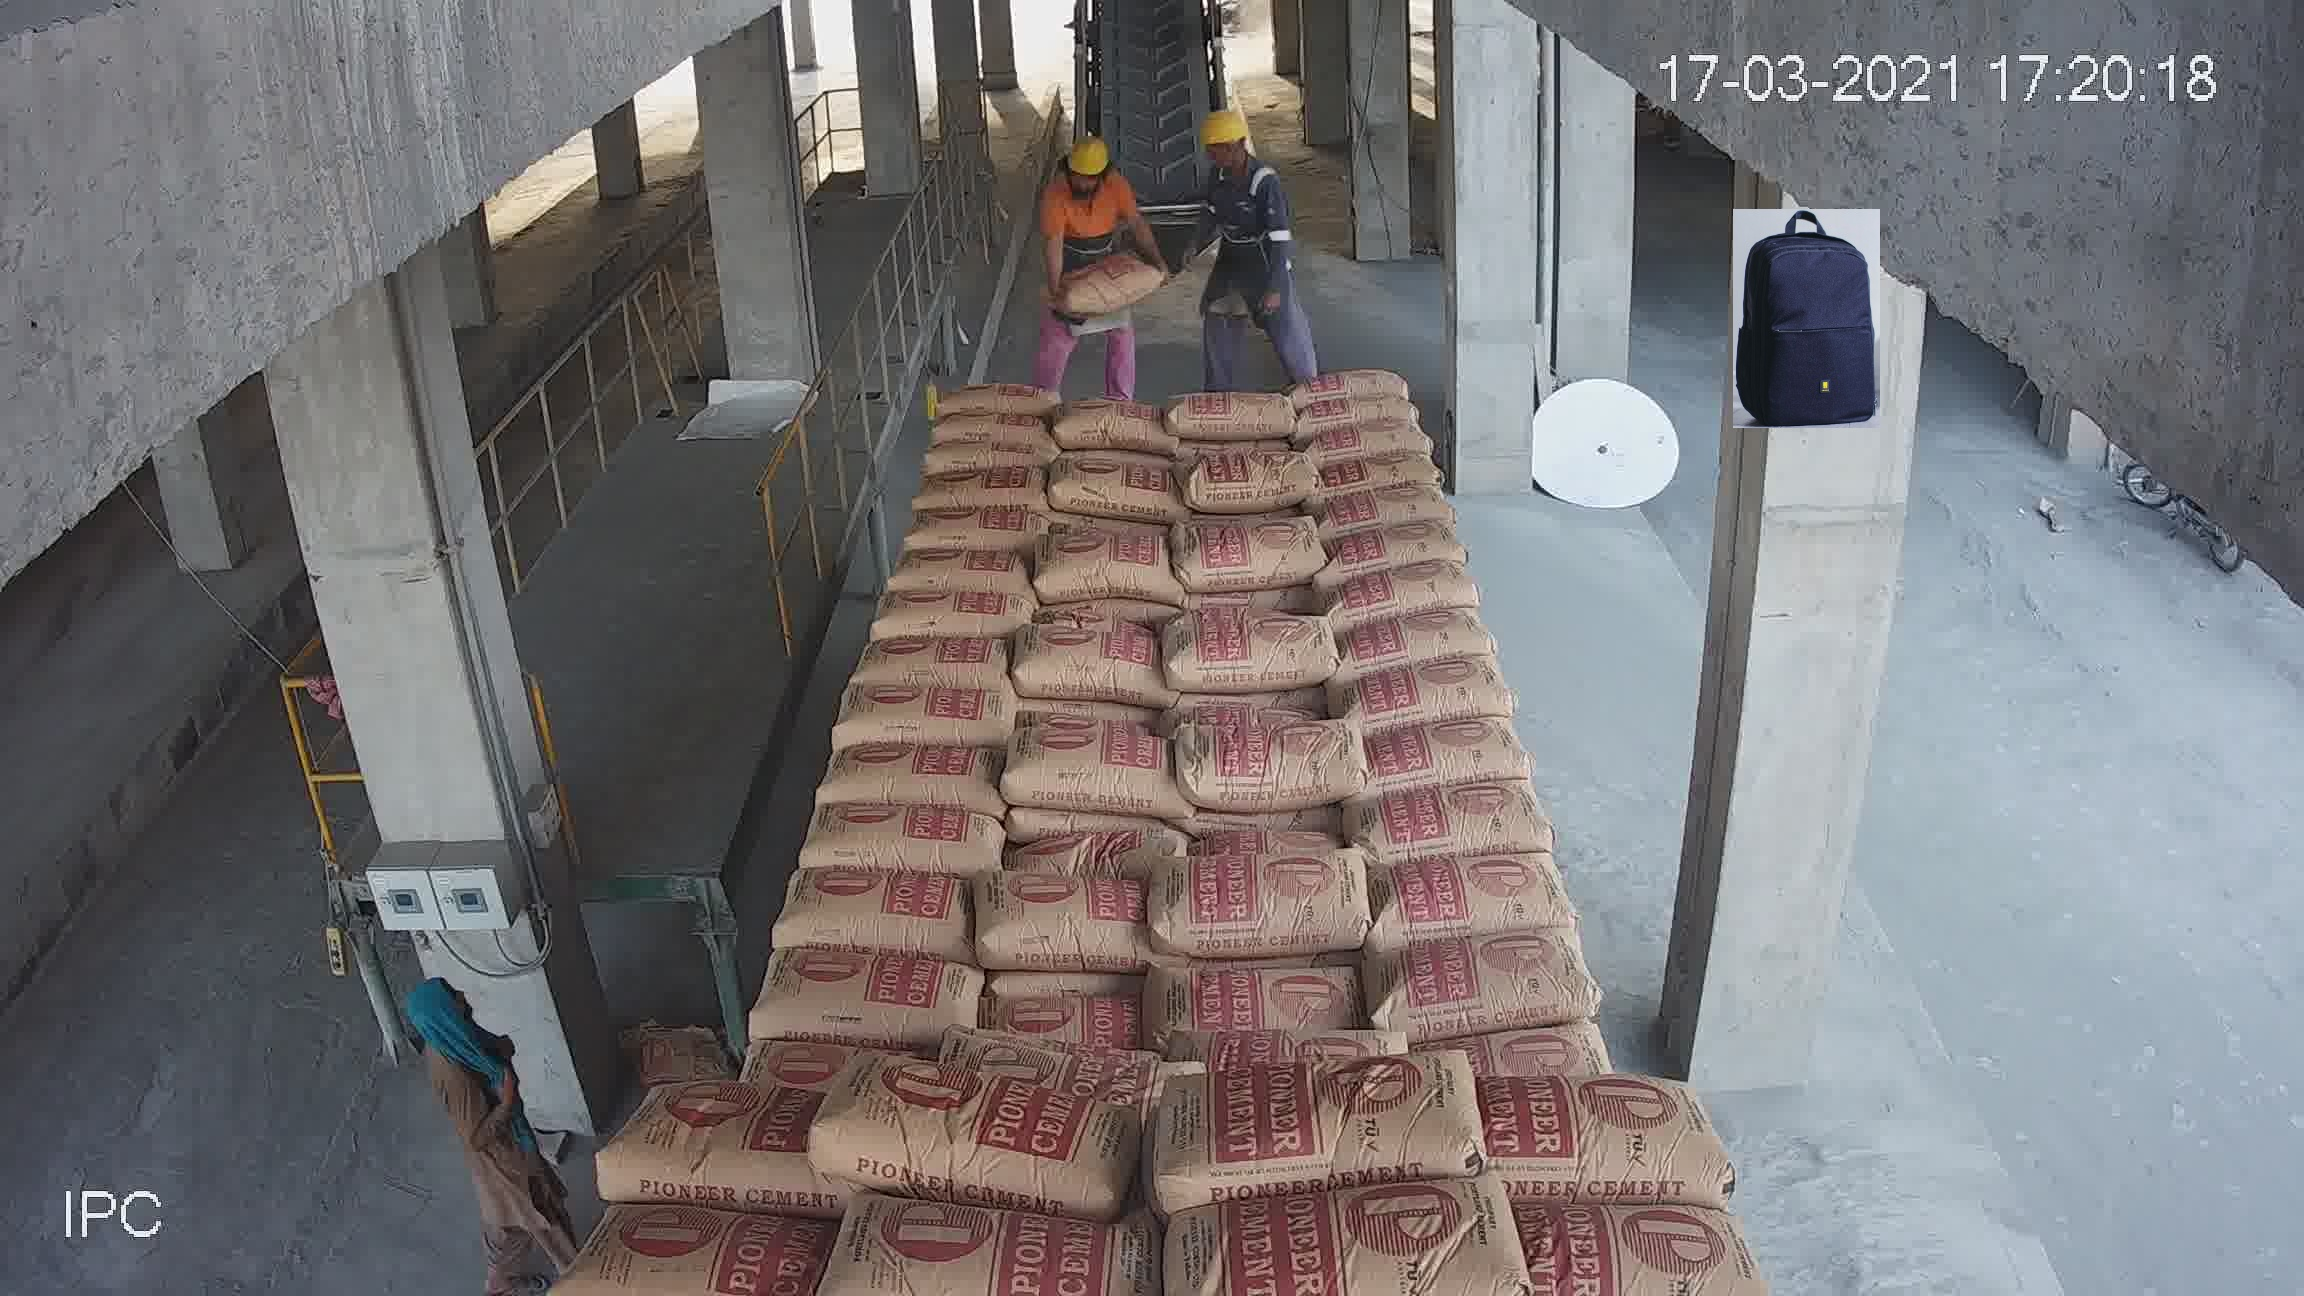bag: (1106, 563, 1234, 744), (1079, 133, 1231, 253)
bag_h: (1150, 1055, 1506, 1214), (1179, 1174, 1532, 1296), (1141, 937, 1451, 1074), (859, 942, 1139, 1093), (538, 1065, 805, 1207), (641, 934, 888, 1086), (1462, 1060, 1752, 1188), (817, 1060, 1124, 1180), (1416, 949, 1684, 1071), (1465, 1190, 1772, 1296), (847, 1198, 1166, 1296), (1155, 842, 1389, 945), (554, 1211, 840, 1287), (1423, 824, 1573, 943), (1165, 774, 1331, 866), (764, 855, 949, 930), (1383, 785, 1567, 858), (1048, 755, 1150, 880), (793, 779, 938, 866), (1388, 704, 1518, 799), (711, 905, 907, 959), (1385, 647, 1510, 723), (1380, 600, 1491, 669), (798, 737, 907, 799), (1380, 498, 1480, 559), (1377, 560, 1480, 616), (1362, 440, 1449, 491), (1370, 475, 1449, 529), (1317, 343, 1412, 386), (1320, 316, 1399, 361), (1337, 394, 1421, 430)
belt: (984, 49, 1309, 590)
